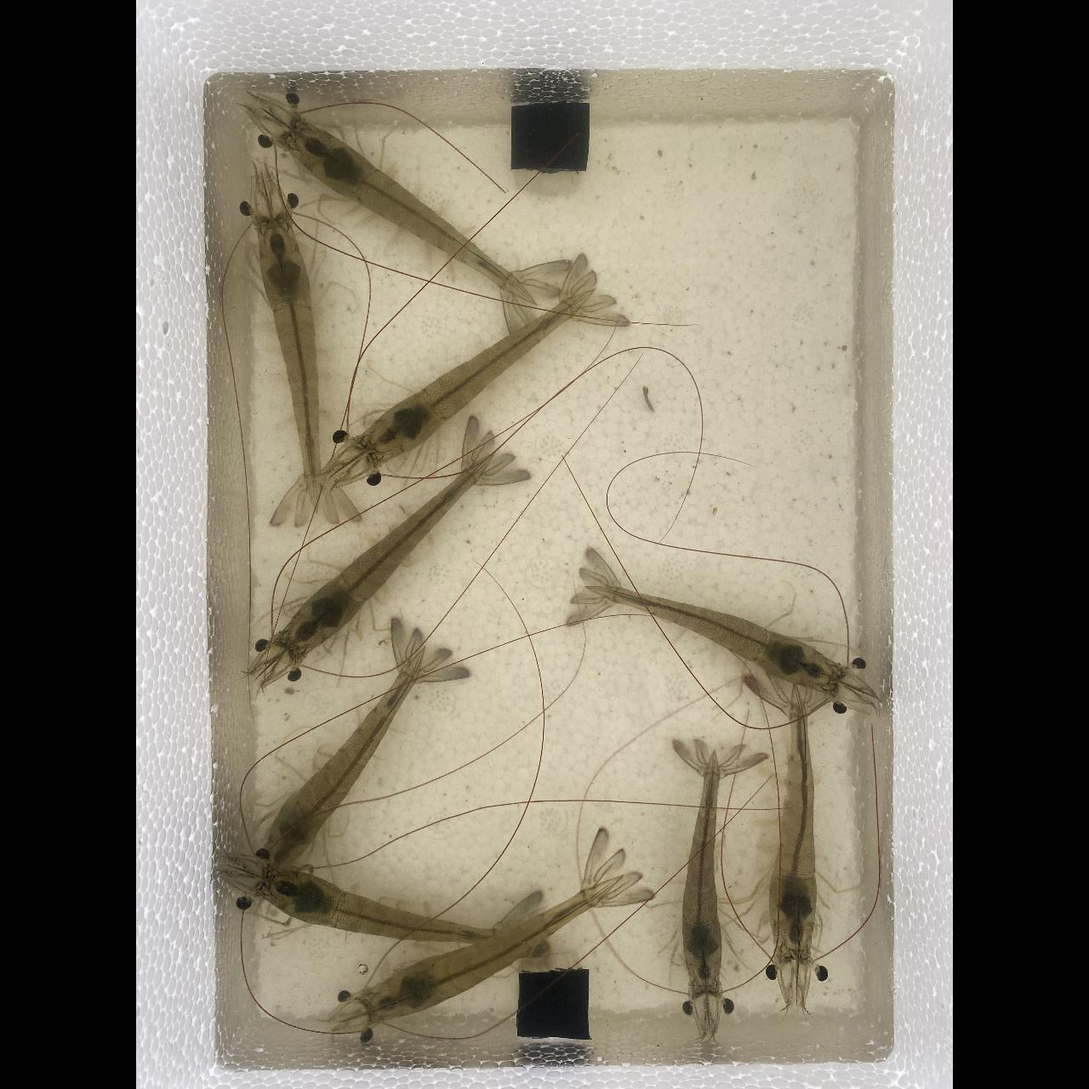box: (510, 100, 589, 172), (517, 968, 589, 1038)
top_shrimp: (289, 123, 527, 299), (282, 456, 488, 653), (362, 293, 585, 461), (260, 655, 420, 875), (368, 878, 618, 1016), (596, 585, 835, 686), (269, 868, 523, 947), (259, 218, 320, 507), (773, 696, 813, 956), (684, 757, 720, 990)
